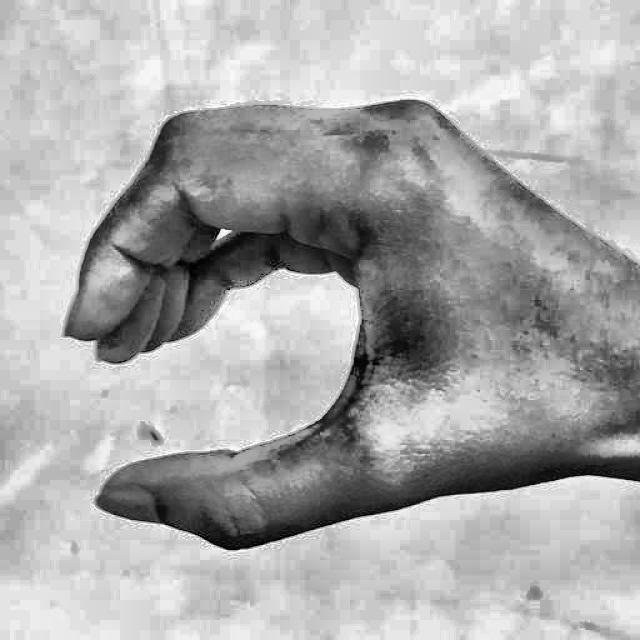Ka: (46, 49, 595, 601)
